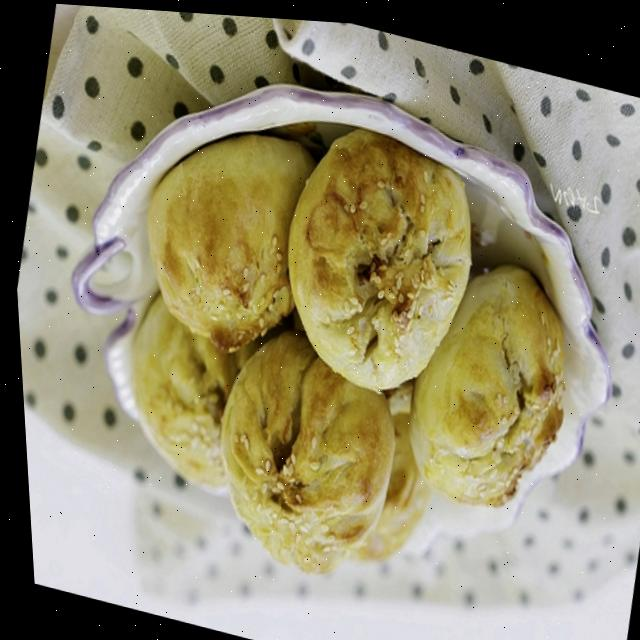带馅早点: (22, 52, 640, 640)
